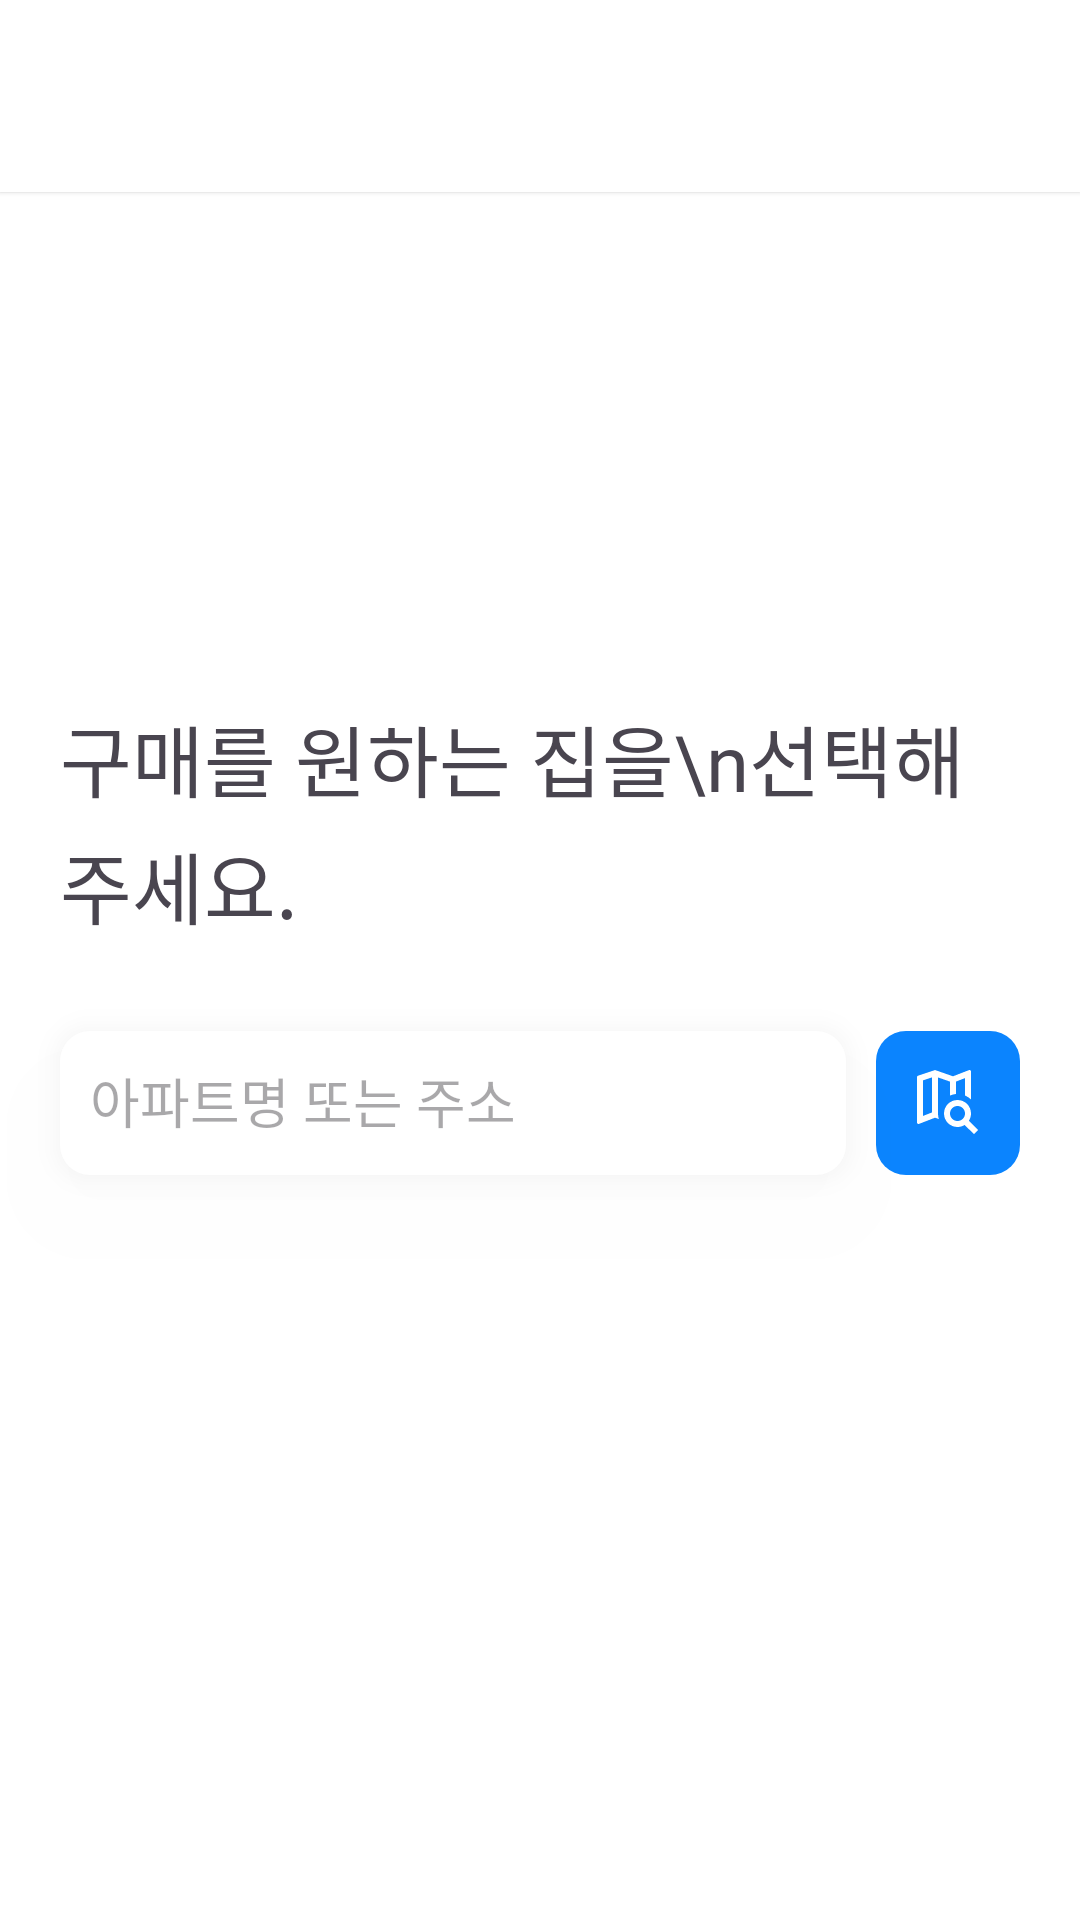

Point at icon controls on the screen. Image size 1080×1920, points as [x,y].
search map: [948,1103]
